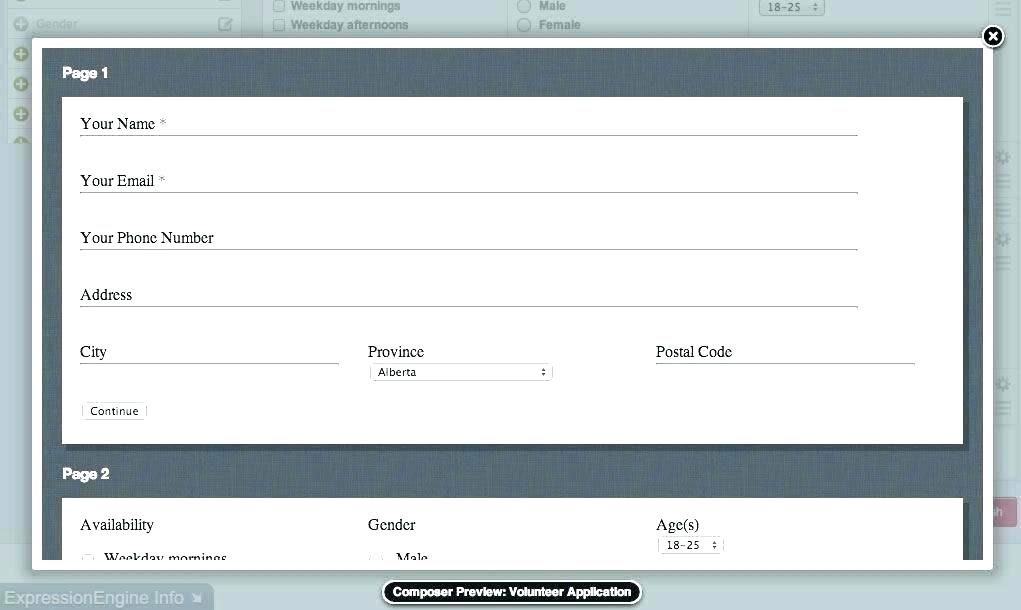_form_: (55, 55, 925, 432)
button: (79, 399, 148, 421)
field_line: (77, 108, 860, 140), (77, 281, 860, 310), (78, 225, 860, 252), (76, 171, 860, 197), (75, 341, 343, 366), (654, 341, 917, 366)
field_with_label: (365, 343, 558, 388)
select: (368, 360, 555, 385)
